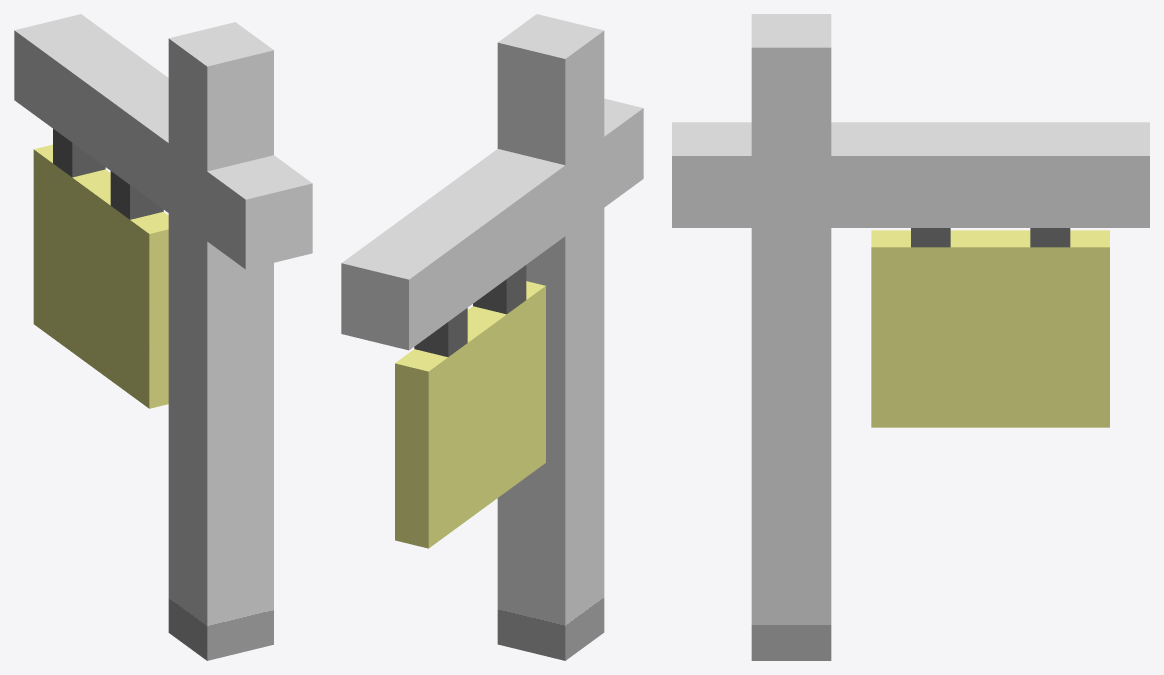
The model's file is obj_sign9.fbx.
3 views of the same model, side by side, from view 1: azimuth 30°, elevation 25°; view 2: azimuth 150°, elevation 25°; view 3: azimuth 270°, elevation 25° (orthographic). The views are drawn at different scales.
Parts seen in each view (by area): view 1: obj_sign9; view 2: obj_sign9; view 3: obj_sign9.
Boxes of the visible parts, x1,y1,x2,y2 form: obj_sign9: (14,14,312,660); obj_sign9: (341,14,643,660); obj_sign9: (672,14,1149,660).
Size of the model in its own units: 0.2 by 1.2 by 1.7.
Materials: 1 (1 with a texture image).
